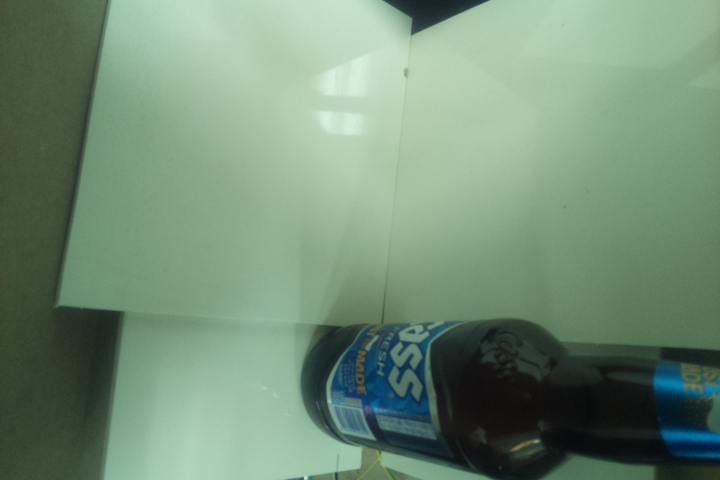makju: (299, 318, 720, 479)
